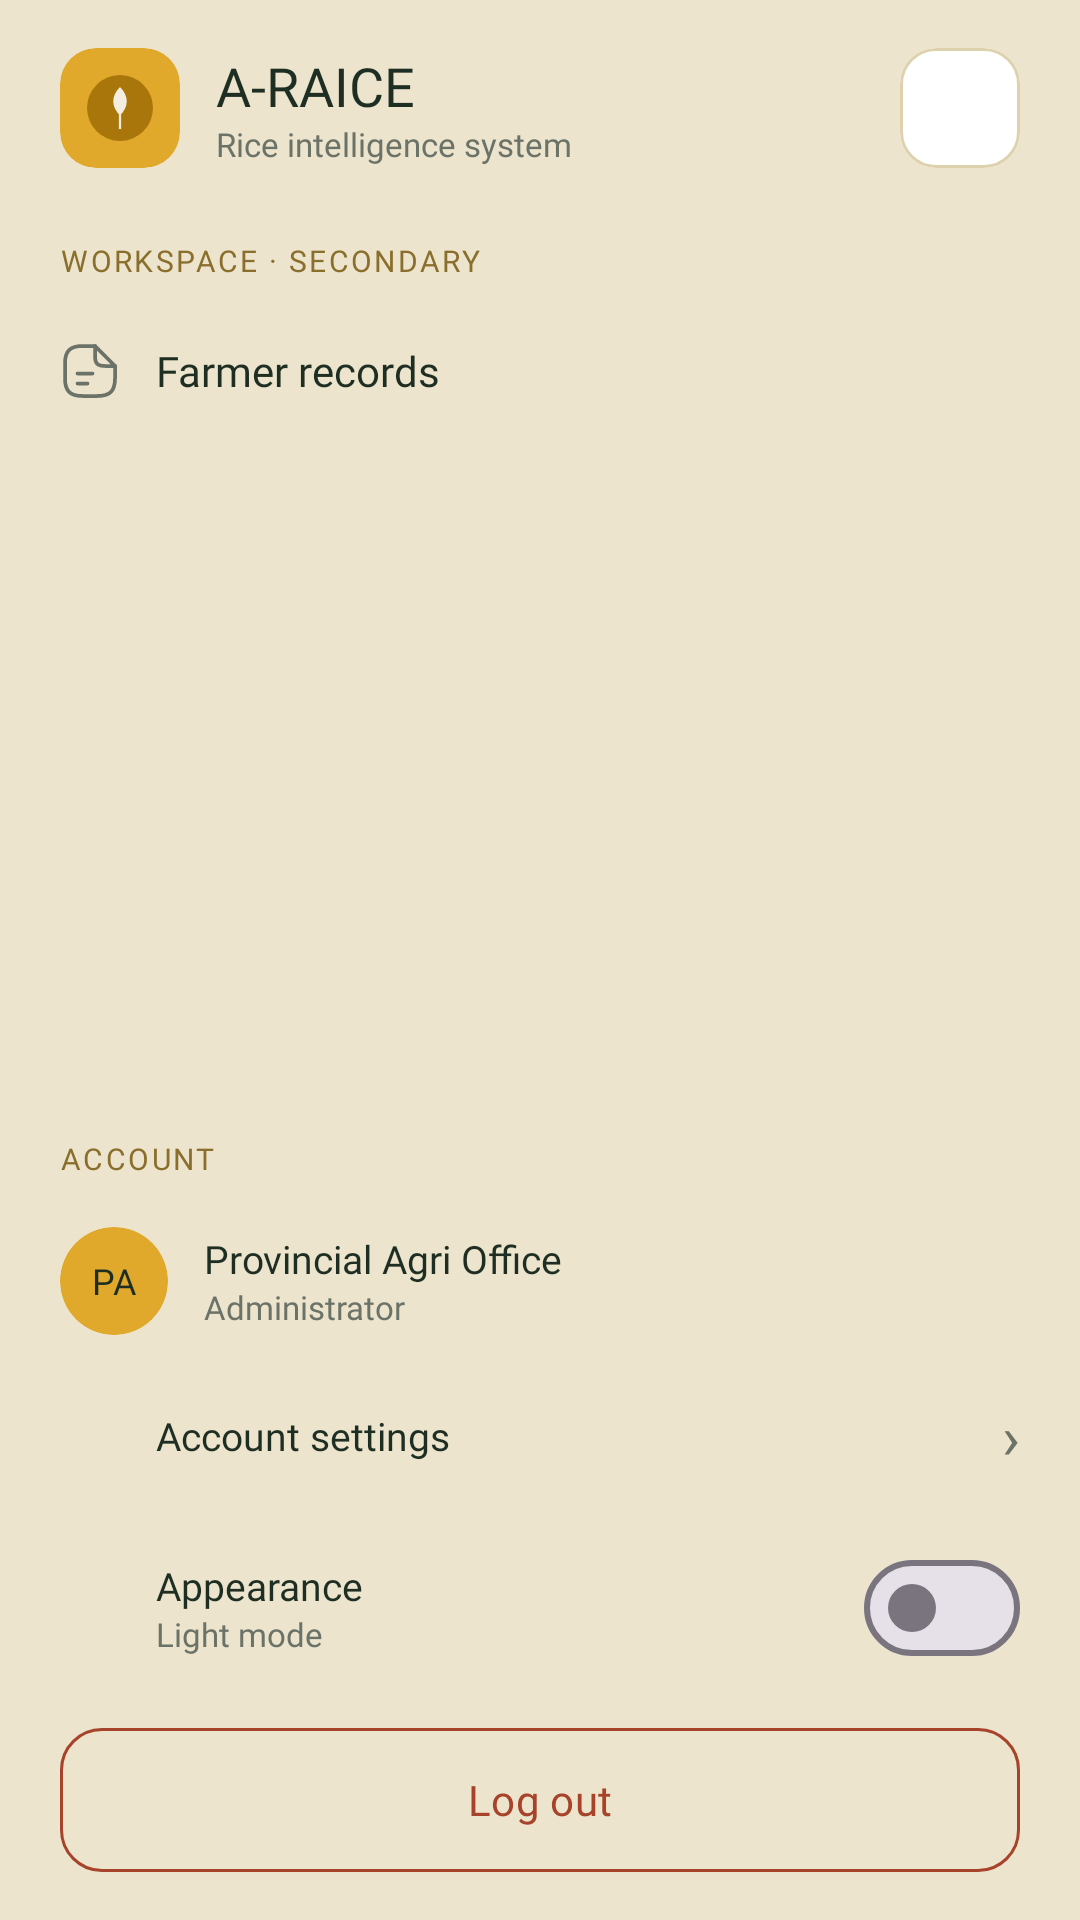

Icons on this 1080w x 1920h Android screen, each with its box as (x1, y1, x2, y2):
report: (63, 344, 117, 398)
